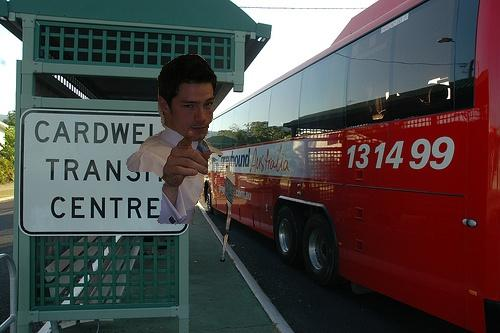tampered: (127, 55, 235, 262)
